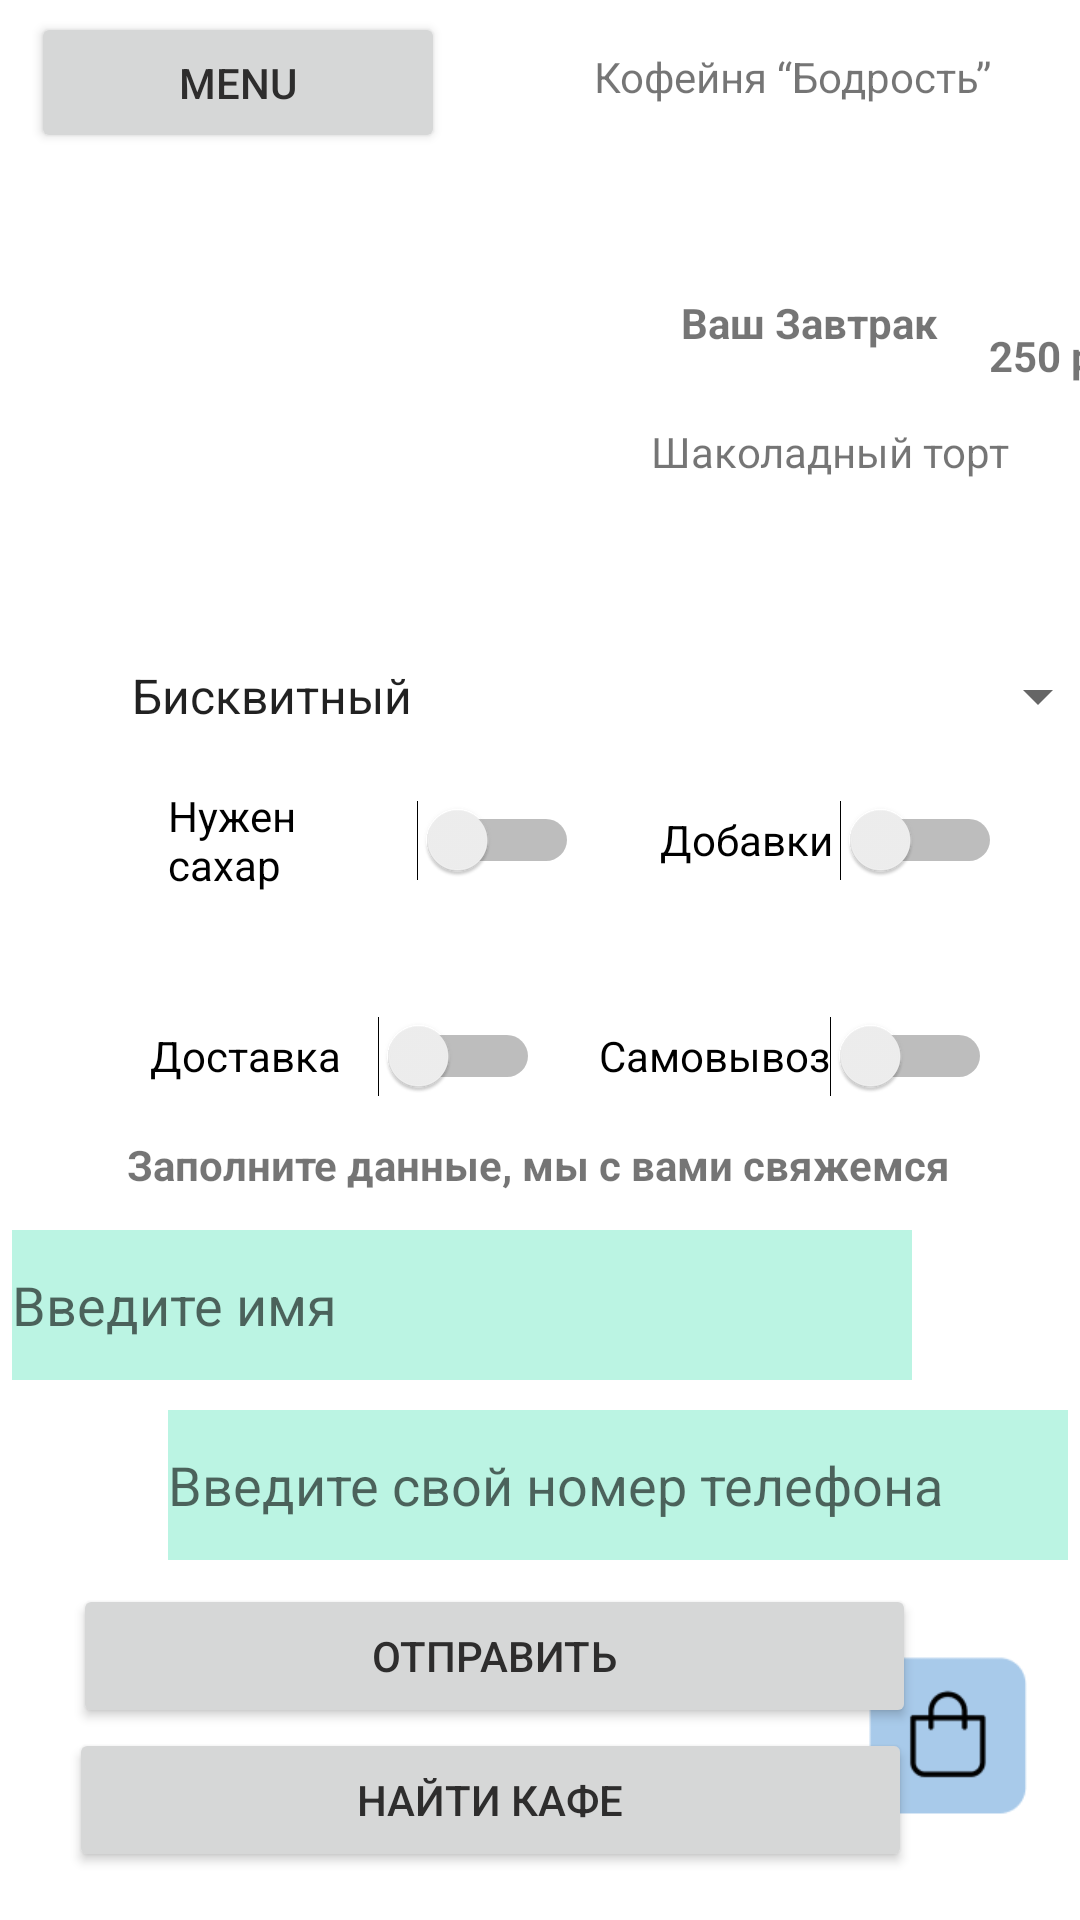

Icons on this 1080px×1920px Android screen, each with the point to tap as (x=x, y=y):
buttonzakaz: (x=945, y=1737)
